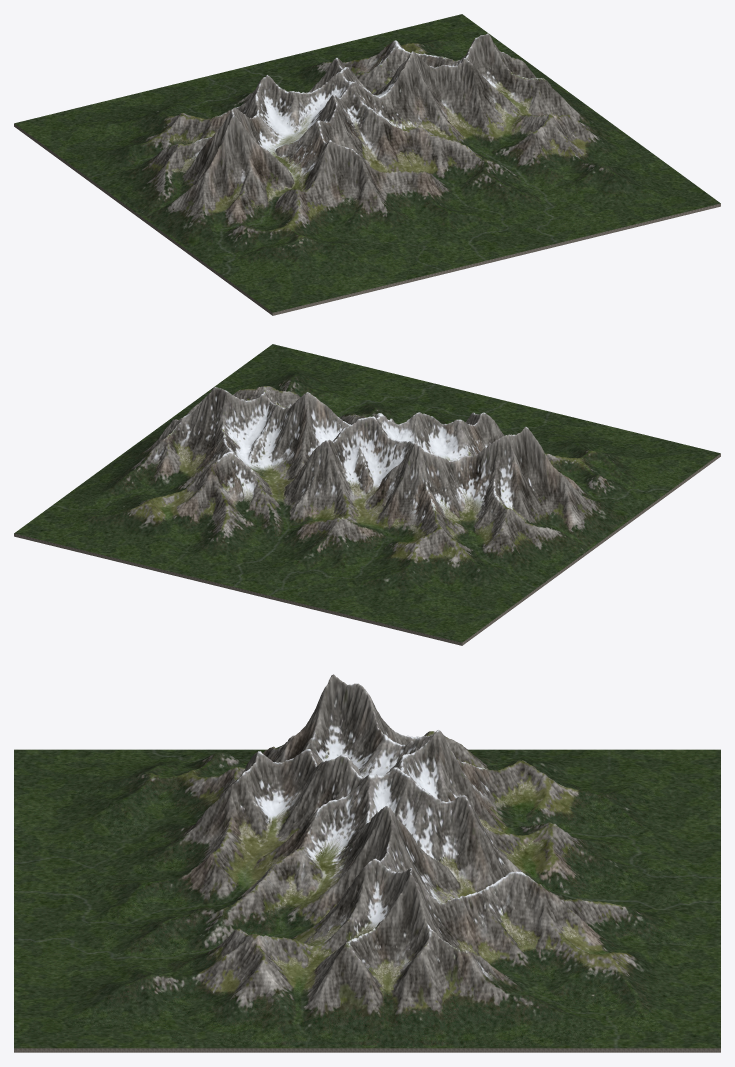
Rendered from mountain-range.glb.
3 views of the same model, one above another, from view 1: azimuth 30°, elevation 25°; view 2: azimuth 150°, elevation 25°; view 3: azimuth 270°, elevation 25° (orthographic). The views are drawn at different scales.
Visible parts, largest first — view 1: Alpine range rock, snow, scree, turf and forest; view 2: Alpine range rock, snow, scree, turf and forest; view 3: Alpine range rock, snow, scree, turf and forest.
Part boxes in pixels (x1,y1,x2,y2): Alpine range rock, snow, scree, turf and forest: (14, 14, 720, 315); Alpine range rock, snow, scree, turf and forest: (14, 344, 720, 645); Alpine range rock, snow, scree, turf and forest: (14, 674, 720, 1052).
Size of the model in its own units: 6000 by 1240 by 6000.
2 materials, 2 textured.
